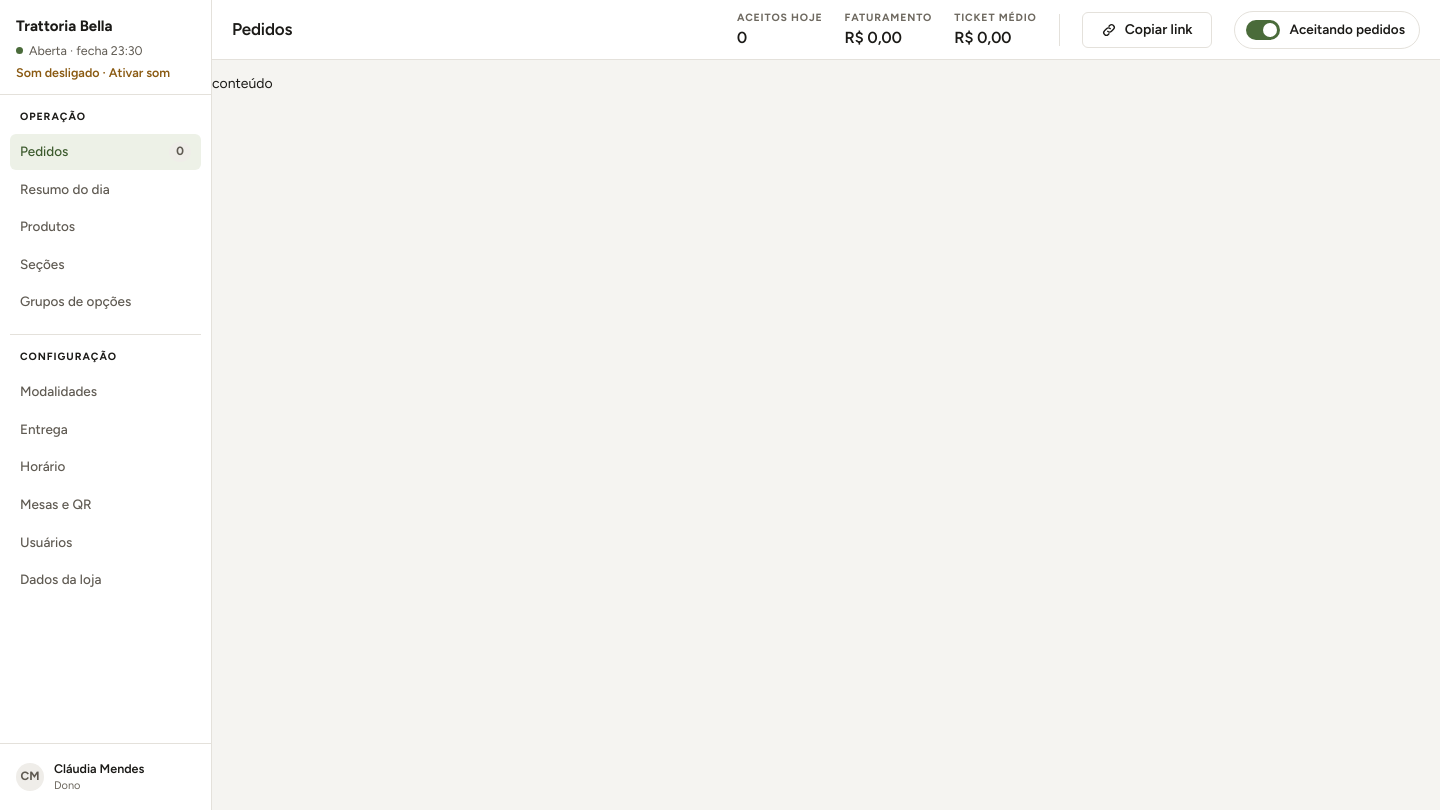
it: PanelLayout › sem permissão para copiar, mostra o link para a pessoa copiar à mão
Click the button with aria-label "Copiar link do cardápio": (1147, 30) [1082,12,1212,48]
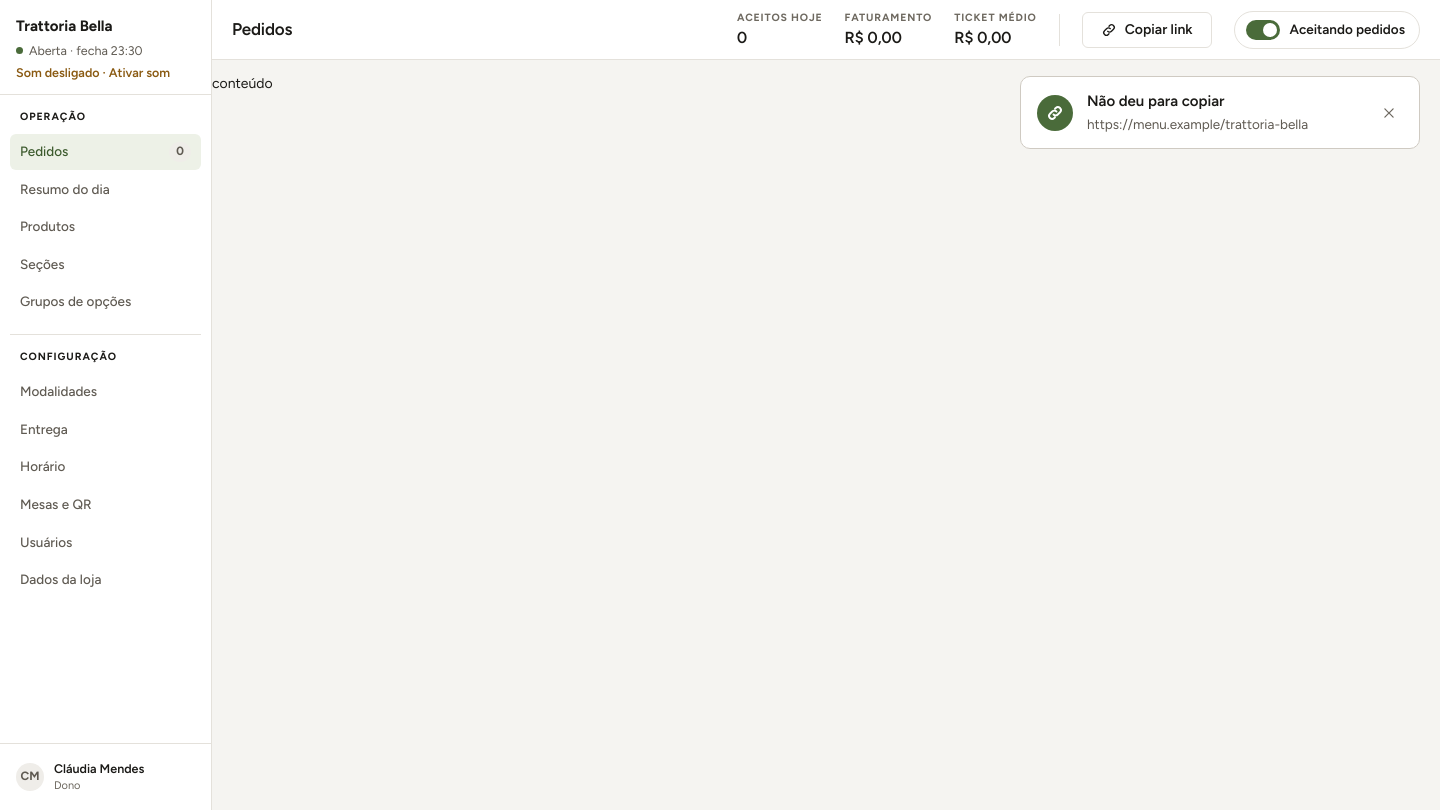
Result: the text "Não deu para copiar" is shown at [1087,92,1225,110]
Result: the text "https://menu.example/trattoria-bella" is shown at [1087,116,1308,132]
